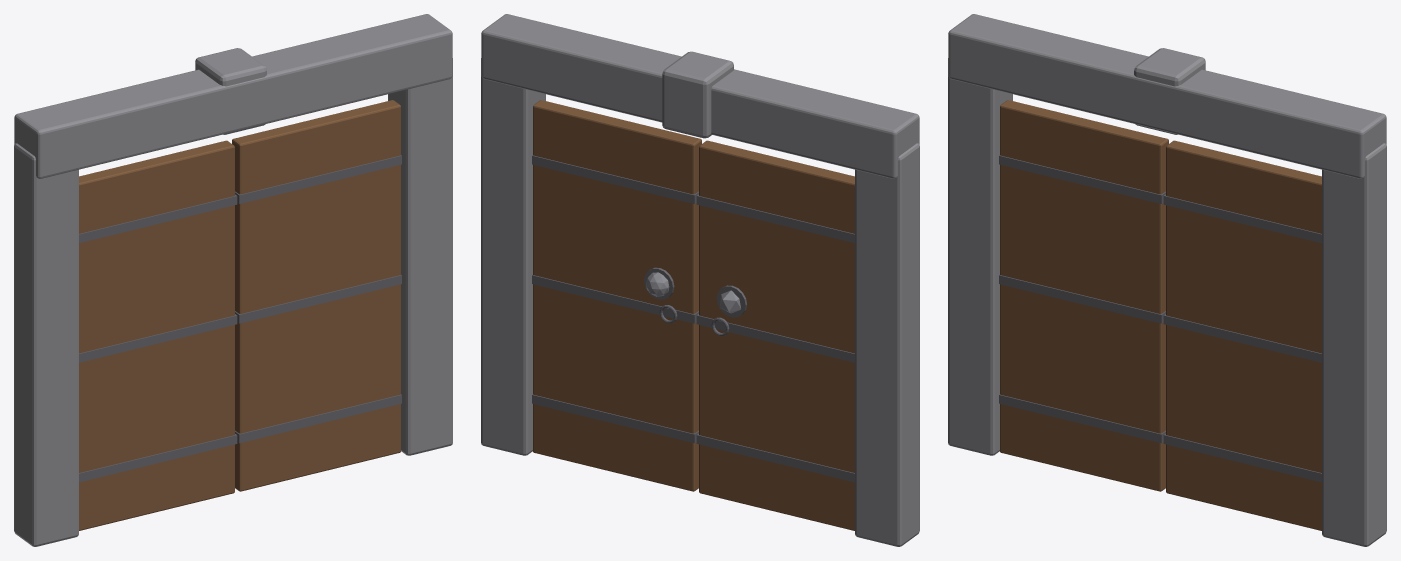
File: study_exit_door.glb
3 views of the same model, side by side, from view 1: azimuth 30°, elevation 25°; view 2: azimuth 150°, elevation 25°; view 3: azimuth 330°, elevation 25° (orthographic).
Visible parts, largest first — view 1: DoorPanelRight, DoorPanelLeft, StoneLintel, StonePortalCol_-1, StonePortalCol_1, Keystone, IronStrapR_1.1, IronStrapR_-1.1, IronStrapR_0.0, IronStrapL_1.1, IronStrapL_0.0, IronStrapL_-1.1; view 2: DoorPanelRight, DoorPanelLeft, StoneLintel, StonePortalCol_-1, StonePortalCol_1, Keystone, IronStrapR_1.1, IronStrapR_-1.1, IronStrapR_0.0, IronStrapL_1.1, IronStrapL_-1.1, IronStrapL_0.0; view 3: DoorPanelLeft, DoorPanelRight, StoneLintel, StonePortalCol_1, StonePortalCol_-1, Keystone, IronStrapL_1.1, IronStrapL_-1.1, IronStrapL_0.0, IronStrapR_1.1, IronStrapR_0.0, IronStrapR_-1.1.
Part boxes in pixels (x1=…): DoorPanelRight: x1=232, y1=100, x2=400, y2=491; DoorPanelLeft: x1=79, y1=140, x2=234, y2=530; StoneLintel: x1=14, y1=14, x2=452, y2=178; StonePortalCol_-1: x1=14, y1=143, x2=78, y2=546; StonePortalCol_1: x1=388, y1=58, x2=452, y2=455; Keystone: x1=195, y1=48, x2=266, y2=134; IronStrapR_1.1: x1=235, y1=155, x2=401, y2=203; IronStrapR_-1.1: x1=235, y1=394, x2=401, y2=443; IronStrapR_0.0: x1=235, y1=275, x2=401, y2=323; IronStrapL_1.1: x1=79, y1=194, x2=237, y2=242; IronStrapL_0.0: x1=79, y1=314, x2=237, y2=362; IronStrapL_-1.1: x1=79, y1=434, x2=237, y2=482; DoorPanelRight: x1=533, y1=100, x2=701, y2=491; DoorPanelLeft: x1=699, y1=140, x2=854, y2=530; StoneLintel: x1=481, y1=14, x2=919, y2=178; StonePortalCol_-1: x1=855, y1=143, x2=919, y2=546; StonePortalCol_1: x1=481, y1=58, x2=545, y2=455; Keystone: x1=662, y1=51, x2=733, y2=138; IronStrapR_1.1: x1=532, y1=155, x2=698, y2=203; IronStrapR_-1.1: x1=532, y1=394, x2=698, y2=443; IronStrapR_0.0: x1=532, y1=275, x2=698, y2=323; IronStrapL_1.1: x1=696, y1=194, x2=854, y2=242; IronStrapL_-1.1: x1=696, y1=434, x2=854, y2=482; IronStrapL_0.0: x1=696, y1=314, x2=854, y2=362; DoorPanelLeft: x1=1000, y1=100, x2=1168, y2=491; DoorPanelRight: x1=1166, y1=140, x2=1321, y2=530; StoneLintel: x1=948, y1=14, x2=1386, y2=178; StonePortalCol_1: x1=1322, y1=143, x2=1386, y2=546; StonePortalCol_-1: x1=948, y1=58, x2=1012, y2=455; Keystone: x1=1134, y1=48, x2=1205, y2=134; IronStrapL_1.1: x1=999, y1=155, x2=1165, y2=203; IronStrapL_-1.1: x1=999, y1=394, x2=1165, y2=443; IronStrapL_0.0: x1=999, y1=275, x2=1165, y2=323; IronStrapR_1.1: x1=1163, y1=194, x2=1321, y2=242; IronStrapR_0.0: x1=1163, y1=314, x2=1321, y2=362; IronStrapR_-1.1: x1=1163, y1=434, x2=1321, y2=482.
Size of the model in its own units: 4.05 by 3.93 by 0.49.
